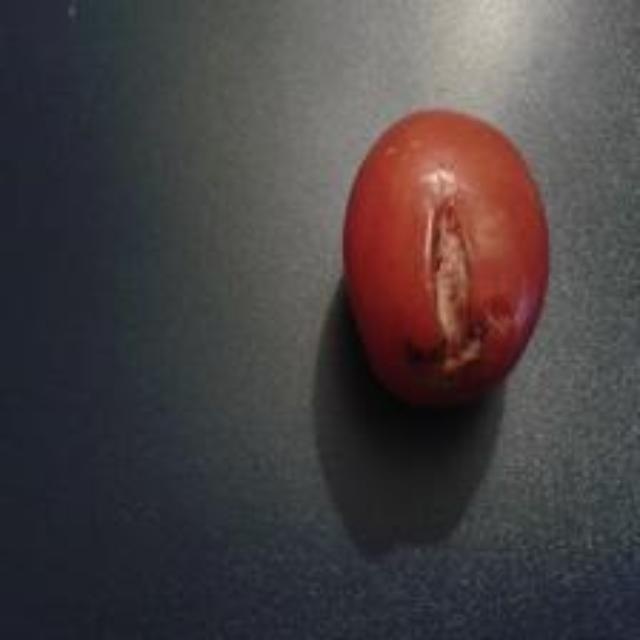defect: (343, 105, 549, 417)
